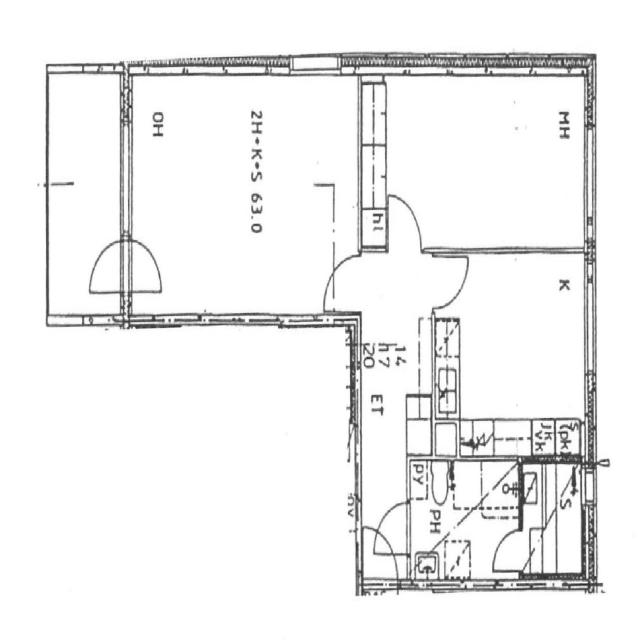door: (428, 248, 472, 312), (370, 497, 413, 559), (125, 233, 166, 298), (385, 190, 426, 250), (88, 234, 125, 300), (320, 252, 361, 310), (488, 523, 528, 578), (365, 521, 401, 563)
window: (115, 114, 138, 242), (580, 261, 604, 383), (580, 120, 601, 239), (290, 53, 343, 80)
zone: (129, 66, 359, 322), (360, 249, 591, 457), (383, 74, 587, 253), (46, 62, 126, 319), (406, 458, 523, 584), (522, 462, 589, 582), (86, 234, 125, 299), (360, 207, 387, 252)
